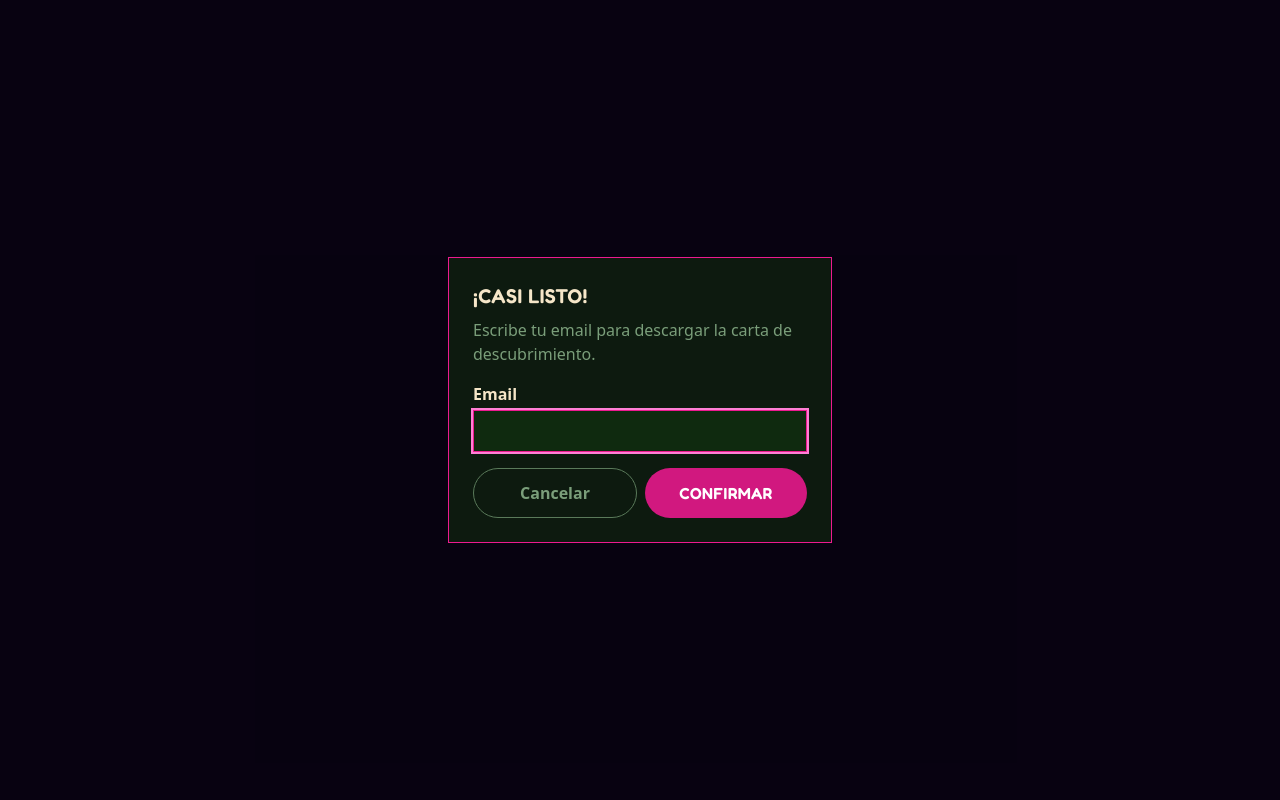
Test case: EmailGateModal › shows an inline error for an invalid email and does not call onConfirm
Type "not-an-email" into the field labelled "Email" at (640, 431), box top-left (473, 410), bottom-right (807, 452)
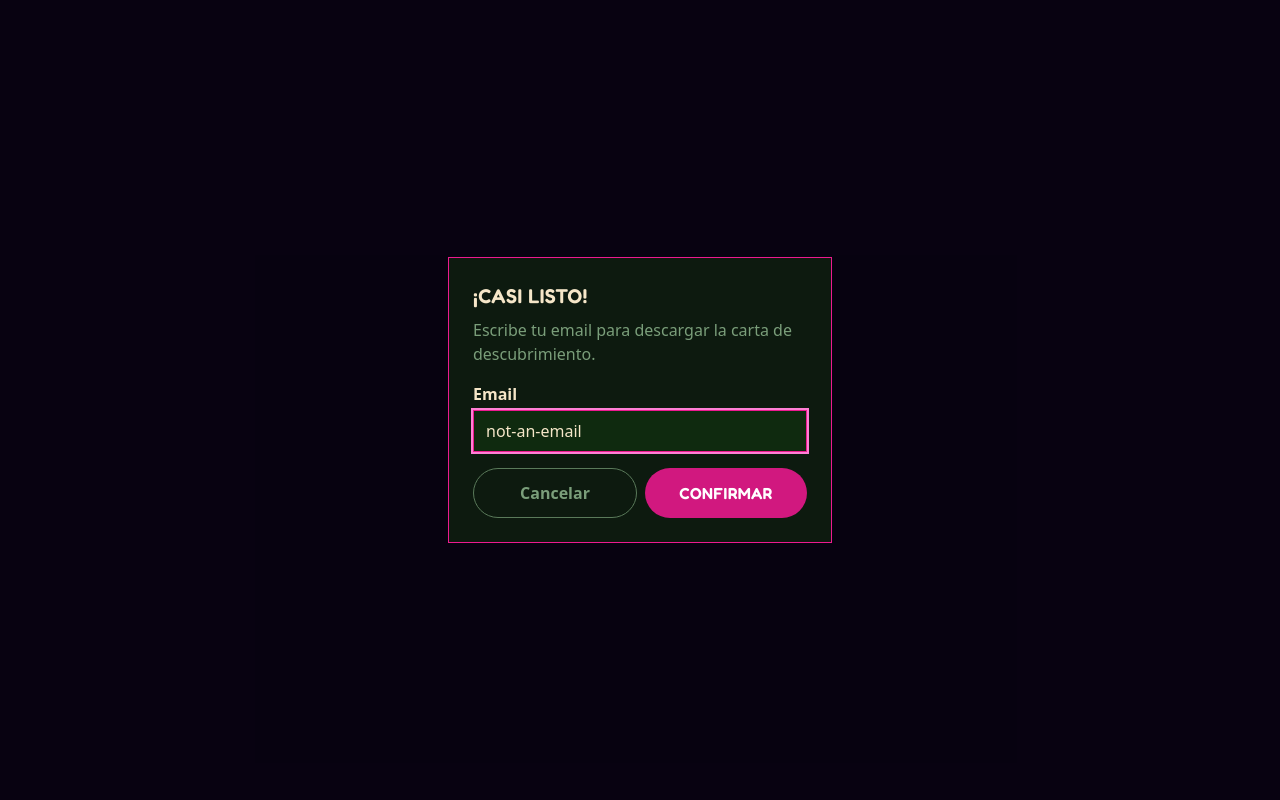
Click the button "Confirmar" at (726, 493), box top-left (645, 468), bottom-right (807, 518)
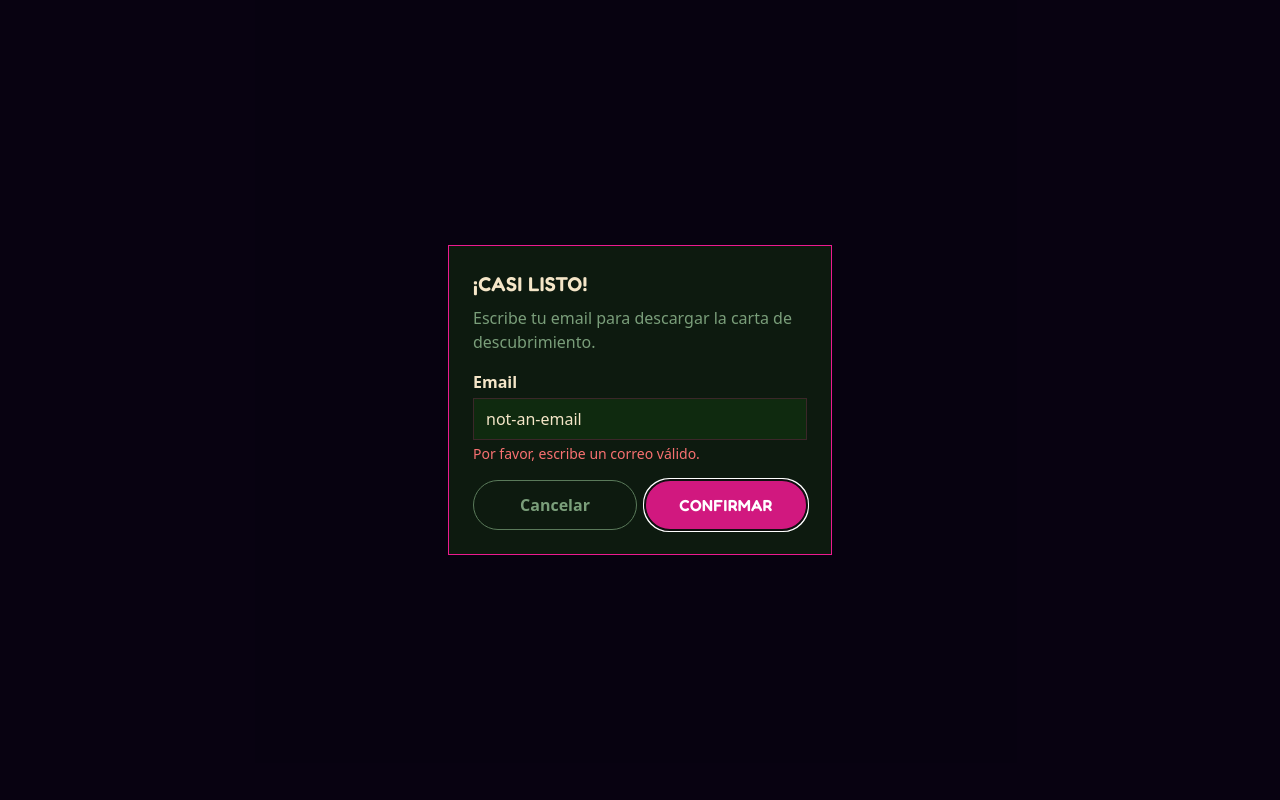
Now the text "Por favor, escribe un correo válido." is shown, box top-left (473, 444), bottom-right (700, 463)
